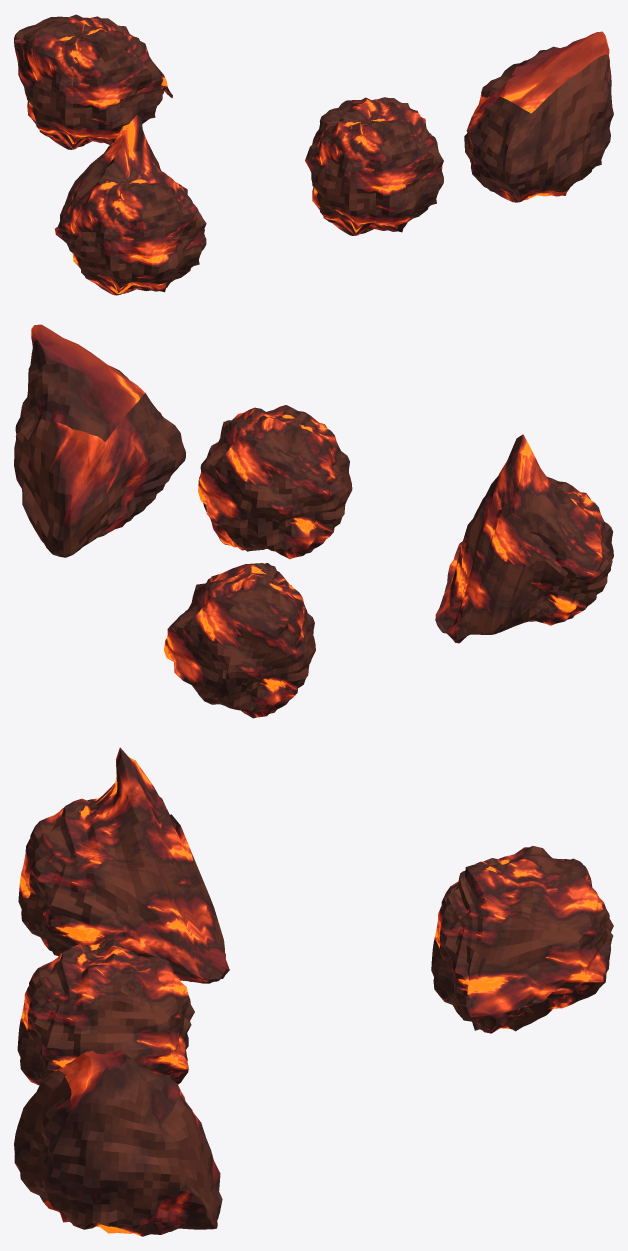
Rendered from Asteroids.fbx.
The picture shows the model from 3 angles, top to bottom: view 1: azimuth 30°, elevation 25°; view 2: azimuth 150°, elevation 25°; view 3: azimuth 270°, elevation 25°; orthographic projection. The views are drawn at different scales.
Visible parts, largest first — view 1: Lava Asteroid.001, Lava Asteroid.002, Lava Asteroid.003, Lava Asteroid; view 2: Lava Asteroid.001, Lava Asteroid.002, Lava Asteroid, Lava Asteroid.003; view 3: Lava Asteroid.001, Lava Asteroid.002, Lava Asteroid.003, Lava Asteroid.
Boxes of the visible parts, x1,y1,x2,y2 form: Lava Asteroid.001: [464, 31, 613, 202]; Lava Asteroid.002: [55, 115, 206, 295]; Lava Asteroid.003: [14, 14, 172, 149]; Lava Asteroid: [305, 97, 443, 235]; Lava Asteroid.001: [14, 324, 185, 557]; Lava Asteroid.002: [435, 434, 613, 643]; Lava Asteroid: [198, 405, 352, 559]; Lava Asteroid.003: [164, 563, 315, 718]; Lava Asteroid.001: [14, 1049, 222, 1236]; Lava Asteroid.002: [18, 747, 229, 983]; Lava Asteroid.003: [431, 846, 613, 1033]; Lava Asteroid: [17, 939, 194, 1085].
Size of the model in its own units: 1735 by 556 by 1289.
Materials: 1 (1 with a texture image).
